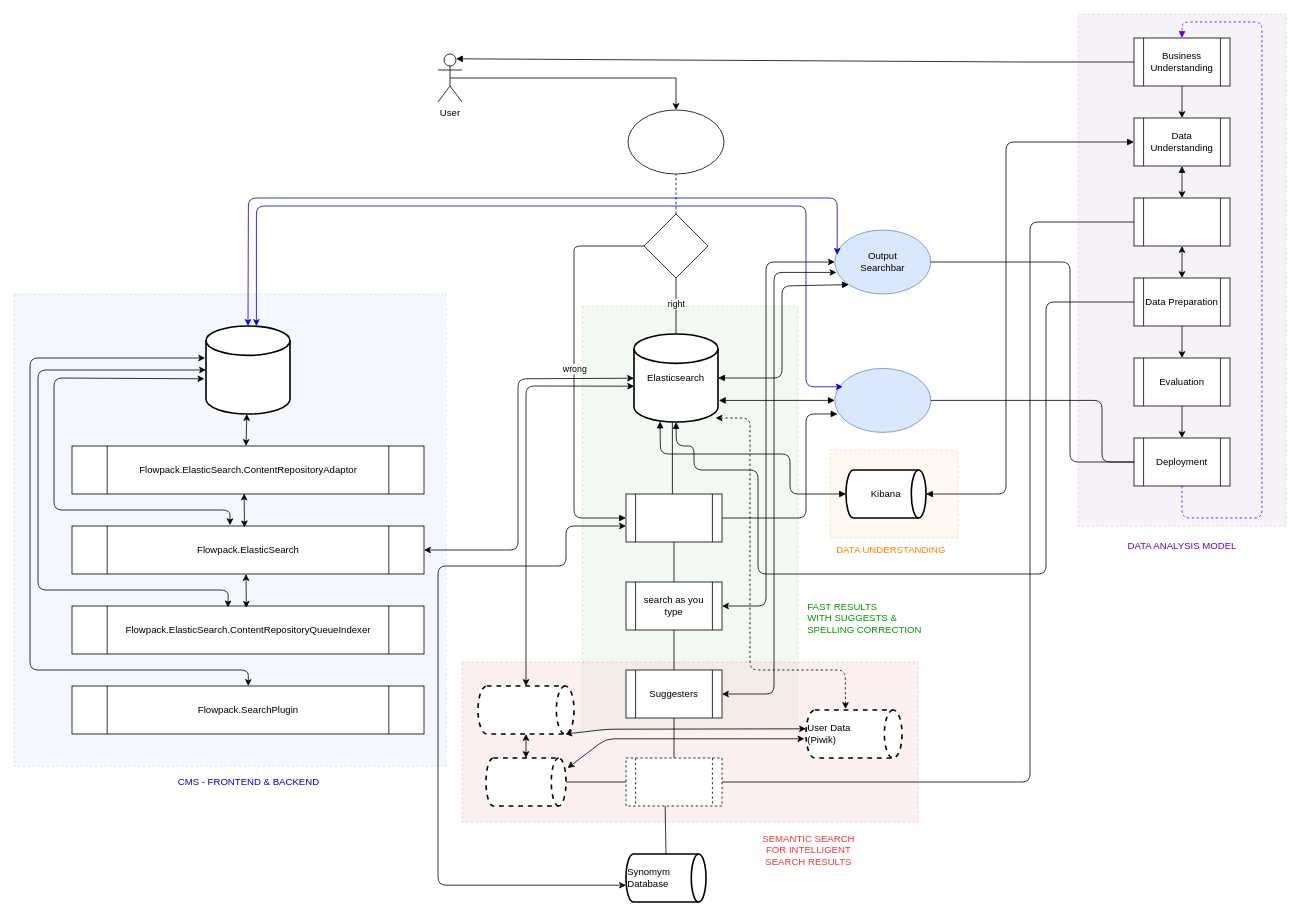
Some shapes in this 1300 by 917 pixel diagram are drawn without their labels. Each missing label, with the centre of its shape:
"Data Modelling" goes at point (1181, 221).
"fuzzy Query" goes at point (673, 517).
"GraphDatabase neo4J" goes at point (525, 709).
"Input Searchbar" goes at point (675, 141).
"NEOS" goes at point (247, 369).
"Output Result List" goes at point (882, 400).
"Spelling" goes at point (675, 245).
"Tensorflow" goes at point (525, 781).
"Text similarity search" goes at point (673, 781).
